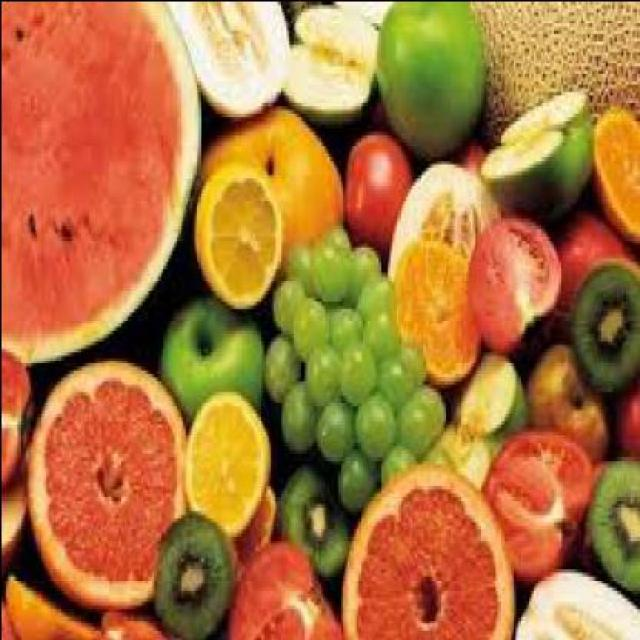BIODEGRADABLE: (0, 0, 638, 637), (2, 1, 195, 358), (27, 351, 184, 615), (334, 467, 512, 636), (466, 1, 639, 116), (198, 109, 344, 228), (476, 427, 586, 582), (376, 2, 478, 149), (476, 86, 590, 217), (154, 290, 266, 419), (168, 0, 286, 120), (186, 163, 277, 308), (178, 380, 265, 528), (465, 213, 560, 347), (270, 452, 352, 597), (388, 240, 474, 368), (286, 2, 376, 123), (226, 542, 337, 636), (150, 510, 232, 636), (510, 564, 638, 636), (552, 214, 638, 321), (392, 156, 496, 242), (526, 351, 608, 452), (344, 123, 407, 252), (574, 260, 638, 383), (588, 449, 638, 593), (591, 98, 637, 253), (0, 569, 102, 636), (449, 347, 529, 430), (420, 419, 494, 481), (268, 380, 323, 452), (1, 366, 32, 482), (604, 366, 638, 460), (393, 384, 442, 448), (254, 322, 300, 390), (335, 438, 379, 505), (287, 293, 330, 355), (262, 326, 301, 394), (342, 340, 380, 405), (312, 398, 352, 459), (235, 485, 272, 546), (306, 340, 340, 402), (323, 296, 360, 352), (0, 467, 23, 553), (350, 398, 393, 444), (310, 238, 341, 297), (396, 325, 424, 387), (289, 235, 317, 290), (379, 344, 404, 405), (267, 274, 301, 318), (379, 444, 413, 484), (349, 245, 373, 301), (362, 304, 389, 350), (360, 271, 391, 311), (456, 141, 478, 170), (321, 225, 339, 246), (350, 242, 368, 253)
